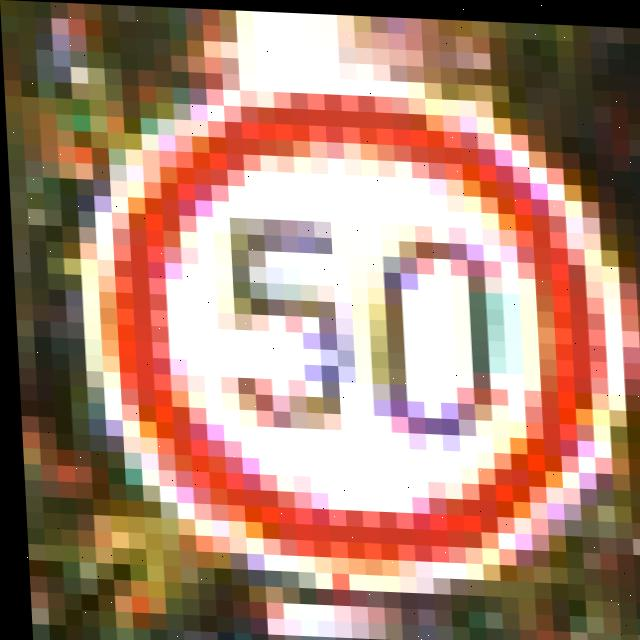speed_limit_50: (52, 50, 640, 572)
